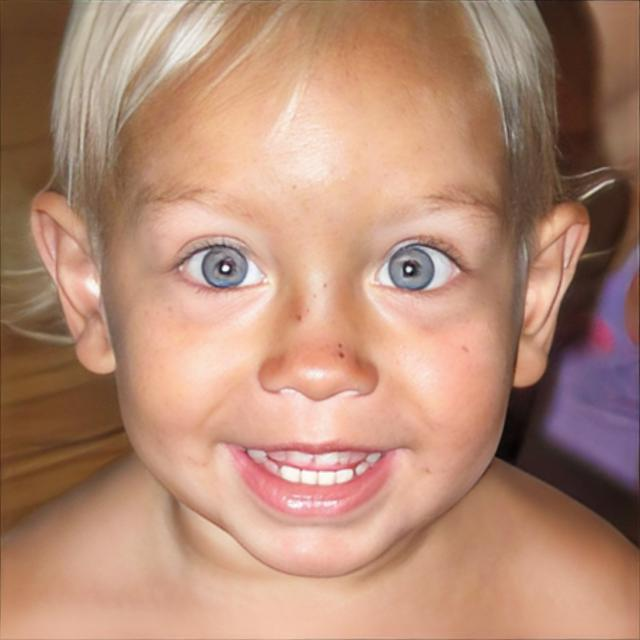surprise: (108, 33, 520, 580)
